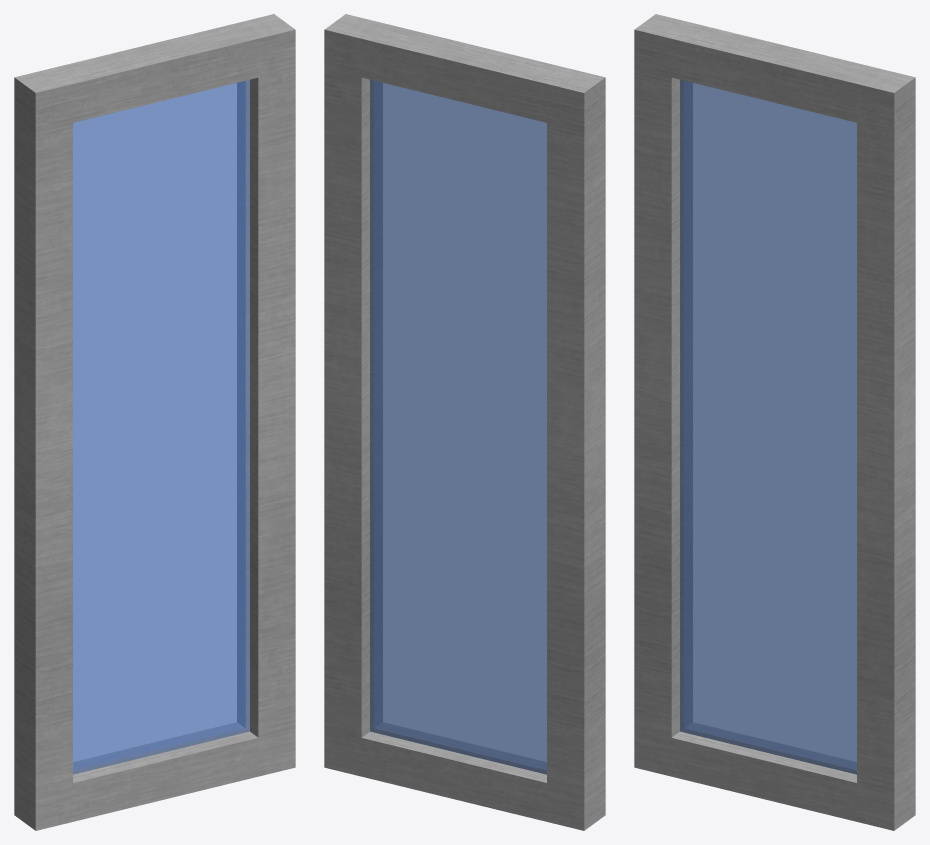
File: GlassDoorSmall.dae
3 views of the same model, side by side, from view 1: azimuth 30°, elevation 25°; view 2: azimuth 150°, elevation 25°; view 3: azimuth 330°, elevation 25° (orthographic).
Parts seen in each view (by area): view 1: SketchUp (×5); view 2: SketchUp (×5); view 3: SketchUp (×5).
Part boxes in pixels (x1,y1,x2,y2): SketchUp (×5): (14, 14, 295, 830); SketchUp (×5): (324, 14, 605, 830); SketchUp (×5): (634, 14, 915, 830).
Bounding box in the file's own units: 27.56 × 3.94 × 74.8.
